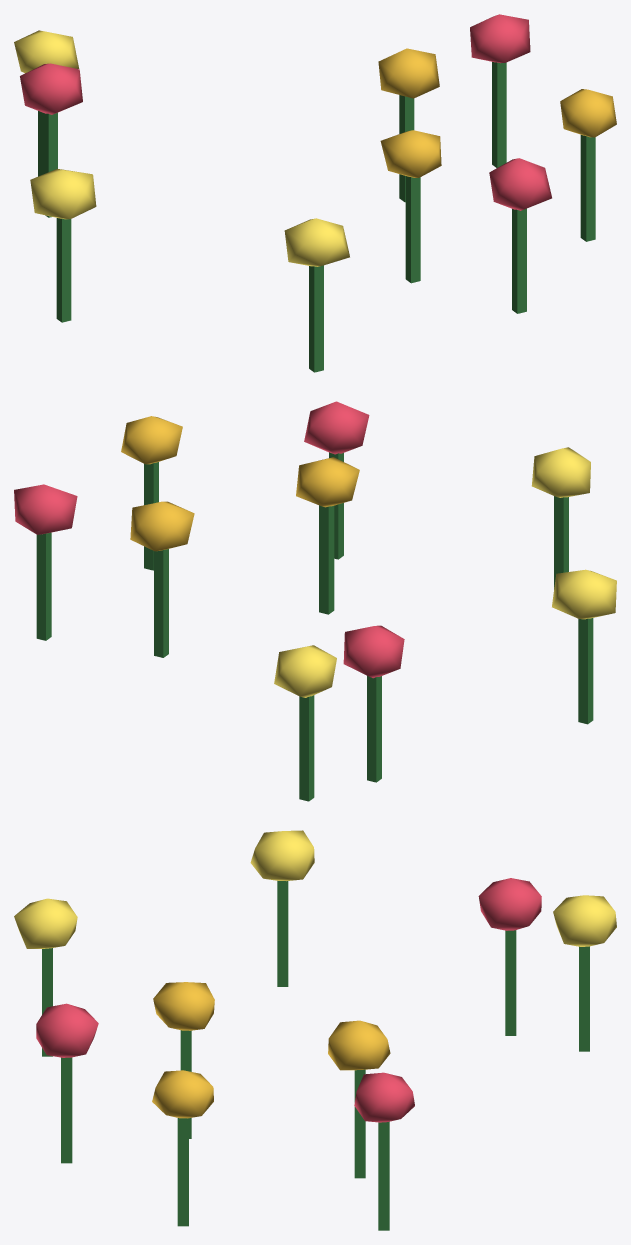
Rendered from flowers.glb.
3 renders of one model, top to bottom at view 1: azimuth 30°, elevation 25°; view 2: azimuth 150°, elevation 25°; view 3: azimuth 270°, elevation 25°, orthographic. The views are drawn at different scales.
Visible parts, largest first — view 1: bloom5, bloom0, bloom8, bloom6, bloom3, bloom1, bloom4, bloom7, bloom2, stem4, stem7, stem5 (+5 smaller); view 2: bloom5, bloom3, bloom1, bloom0, bloom6, bloom2, bloom4, bloom8, bloom7, stem4, stem3, stem5 (+6 smaller); view 3: bloom5, bloom6, bloom2, bloom0, bloom1, bloom8, bloom4, bloom3, bloom7, stem3, stem7, stem6 (+6 smaller).
Part boxes in pixels (x1,y1,x2,y2): bloom5: [30, 168, 96, 219]; bloom0: [20, 63, 82, 114]; bloom8: [284, 218, 349, 266]; bloom6: [489, 158, 551, 210]; bloom3: [470, 14, 530, 63]; bloom1: [378, 48, 439, 98]; bloom4: [380, 130, 441, 177]; bloom7: [560, 89, 616, 137]; bloom2: [14, 30, 79, 73]; stem4: [405, 176, 420, 283]; stem7: [580, 135, 595, 241]; stem5: [56, 218, 71, 322]; bloom5: [552, 569, 616, 619]; bloom3: [14, 484, 77, 534]; bloom1: [130, 501, 194, 551]; bloom0: [343, 625, 404, 678]; bloom6: [304, 401, 369, 454]; bloom2: [274, 645, 336, 697]; bloom4: [296, 457, 359, 507]; bloom8: [531, 447, 590, 497]; bloom7: [121, 416, 182, 464]; stem4: [319, 505, 334, 614]; stem3: [36, 532, 51, 640]; stem5: [578, 618, 593, 724]; bloom5: [250, 830, 314, 881]; bloom6: [36, 1003, 98, 1057]; bloom2: [553, 895, 616, 946]; bloom0: [478, 878, 541, 930]; bloom1: [328, 1020, 390, 1070]; bloom8: [14, 898, 77, 948]; bloom4: [153, 982, 214, 1030]; bloom3: [354, 1072, 414, 1122]; bloom7: [152, 1070, 213, 1118]; stem3: [378, 1121, 389, 1230]; stem7: [177, 1118, 188, 1226]; stem6: [61, 1057, 72, 1163].
Bounding box in the file's own units: 1.44 × 0.3879 × 1.35.
